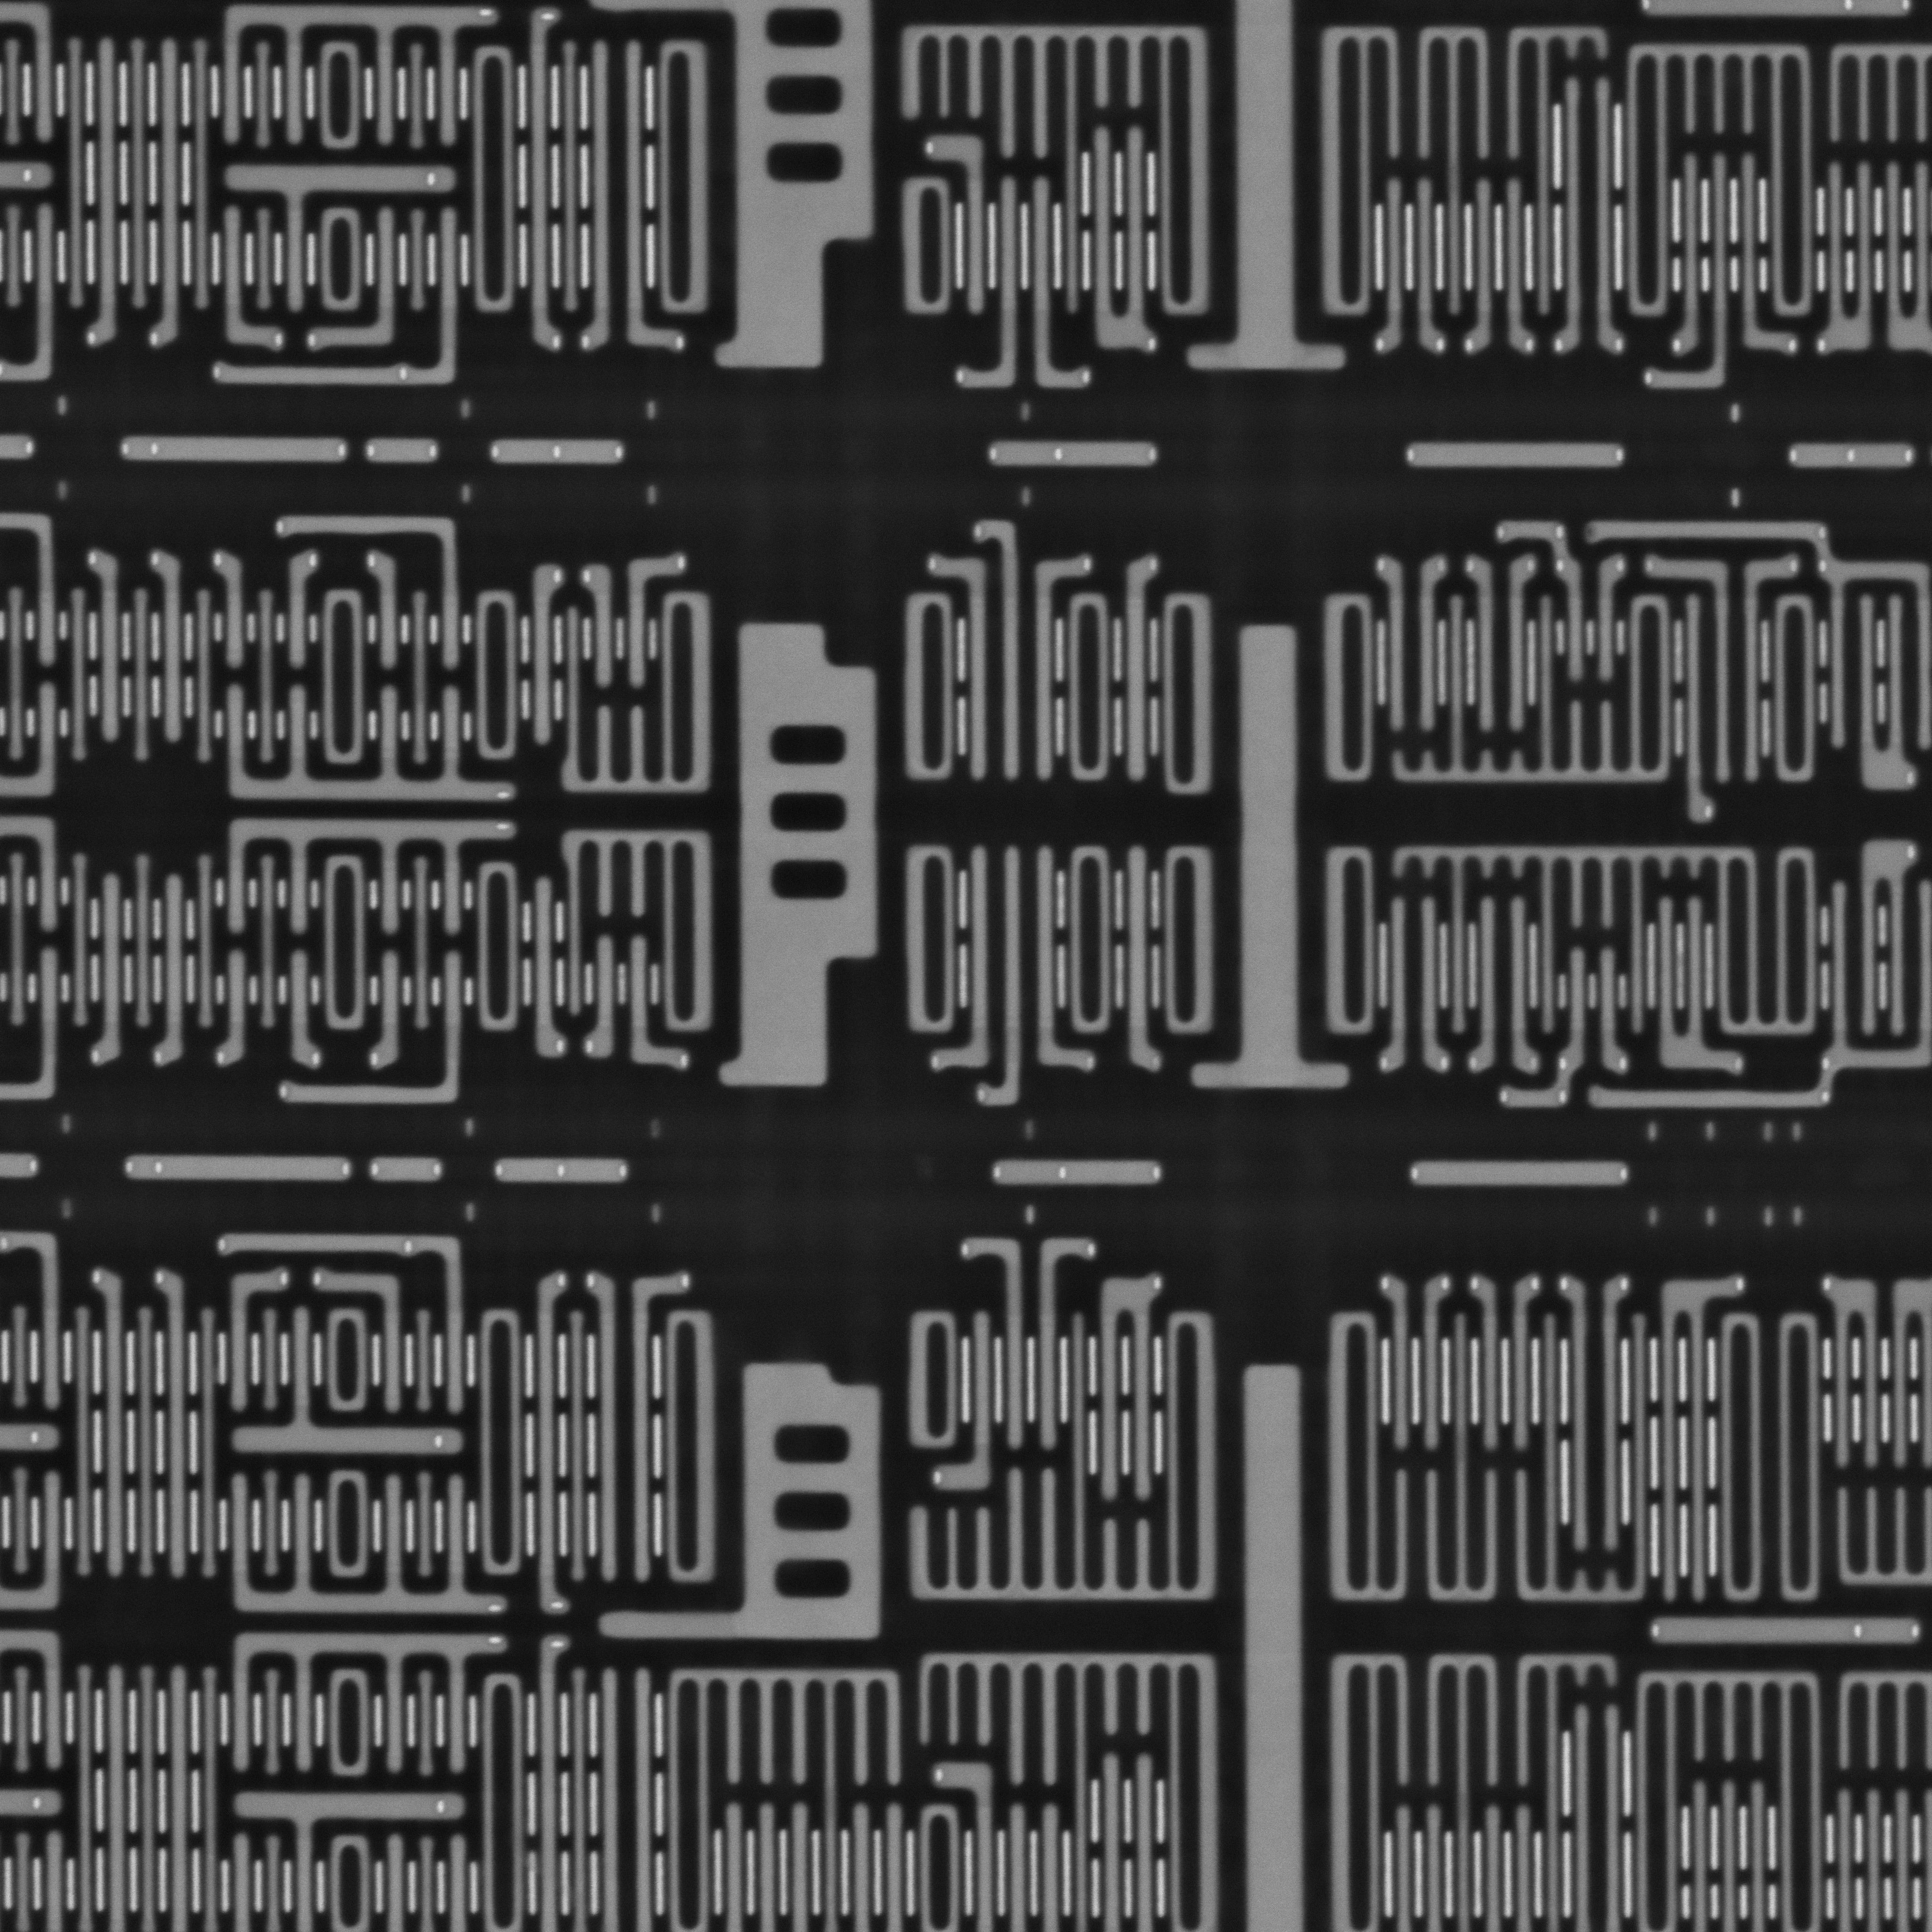doubleGate: (1649, 1272, 1748, 1603), (1644, 893, 1750, 1076), (1083, 122, 1162, 364), (1088, 1269, 1166, 1509), (1817, 1269, 1890, 1474), (1817, 154, 1884, 361)
insideDummy: (715, 607, 883, 1092), (1196, 607, 1355, 1097), (708, 0, 883, 379), (1182, 2, 1345, 377)
multiGate: (223, 1460, 508, 1628), (221, 1631, 508, 1785), (209, 4, 497, 154), (214, 681, 515, 805), (216, 814, 515, 936)
publicGate: (927, 517, 1095, 793), (929, 840, 1092, 1111), (1644, 554, 1801, 828), (580, 30, 692, 359), (1806, 515, 1932, 796), (586, 1270, 692, 1585), (1808, 839, 1932, 1076), (1550, 67, 1629, 364), (1557, 1276, 1637, 1564), (1369, 543, 1453, 741), (1375, 892, 1456, 1076), (1468, 890, 1545, 1074), (1468, 550, 1539, 734)
resistor: (720, 1359, 885, 1649), (122, 1150, 356, 1187), (1403, 439, 1633, 474), (108, 435, 352, 465), (1405, 1159, 1637, 1189), (991, 1161, 1169, 1191), (987, 439, 1166, 467), (1787, 432, 1920, 467), (487, 439, 626, 467), (494, 1157, 630, 1184), (372, 1155, 449, 1187), (363, 439, 441, 460)
singleGate: (957, 1231, 1042, 1453), (515, 0, 566, 357), (518, 1263, 570, 1615), (1021, 163, 1093, 389), (957, 165, 1028, 395), (1727, 152, 1805, 361), (315, 1269, 416, 1428), (92, 1269, 142, 1583), (306, 203, 410, 352), (924, 129, 1000, 324), (932, 1304, 1005, 1506), (83, 32, 129, 349), (1030, 1233, 1095, 1454), (154, 1269, 198, 1580), (149, 34, 191, 357), (1113, 844, 1168, 1074), (211, 196, 290, 349), (1111, 552, 1161, 793), (216, 1256, 288, 1417), (619, 936, 701, 1076), (83, 548, 136, 752), (616, 538, 685, 692), (83, 869, 136, 1069), (145, 870, 195, 1070), (518, 870, 571, 1056), (1668, 147, 1713, 359), (150, 547, 196, 747), (522, 552, 568, 748), (1410, 1269, 1454, 1472), (1465, 1272, 1511, 1461), (1373, 173, 1417, 363), (1382, 1269, 1424, 1463), (1408, 170, 1453, 356), (1495, 172, 1537, 363), (1463, 173, 1506, 359), (1502, 1276, 1545, 1460), (207, 545, 257, 685), (580, 556, 632, 688), (1585, 552, 1631, 688), (584, 934, 630, 1067), (274, 541, 320, 669), (1585, 948, 1631, 1076), (212, 948, 260, 1069), (366, 548, 410, 676), (278, 948, 322, 1070), (370, 948, 410, 1067)
